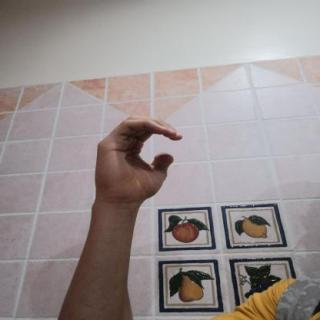JEEM: (80, 112, 192, 210)
